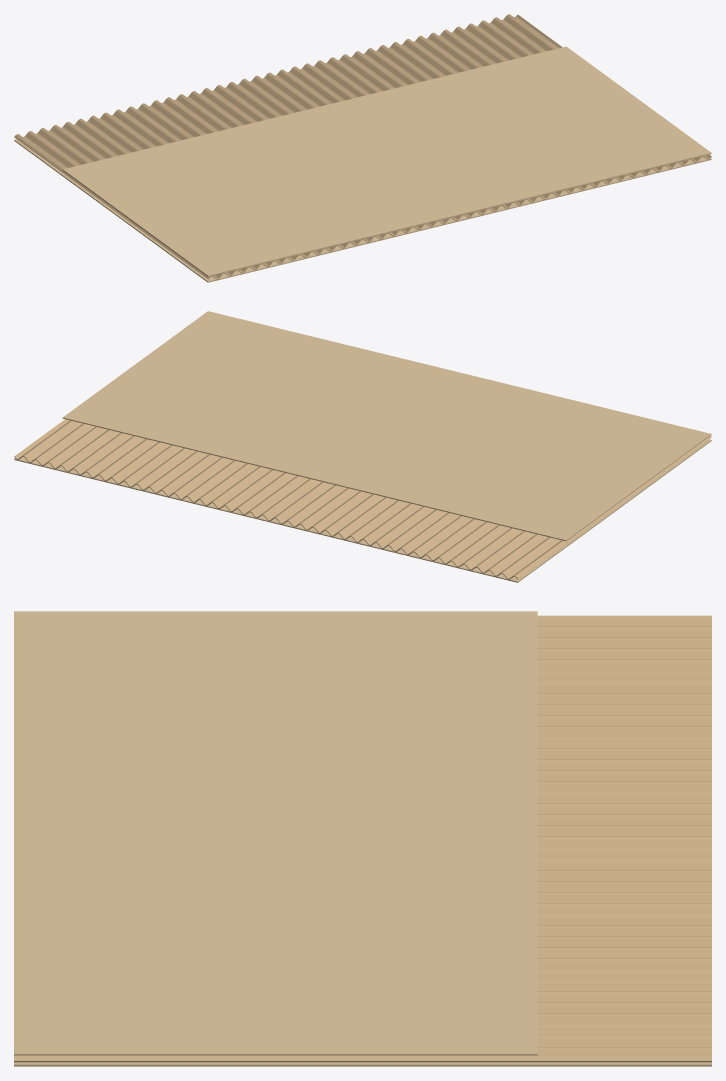
Rendered from corrugated_divider.glb.
3 renders of one model, top to bottom at view 1: azimuth 30°, elevation 25°; view 2: azimuth 150°, elevation 25°; view 3: azimuth 270°, elevation 25°, orthographic. The views are drawn at different scales.
Visible parts, largest first — view 1: divider_liners, divider_flute; view 2: divider_liners, divider_flute; view 3: divider_liners, divider_flute.
Part boxes in pixels (x1,y1,x2,y2): divider_liners: (14,46,711,282); divider_flute: (14,14,711,279); divider_liners: (14,311,711,582); divider_flute: (14,419,711,579); divider_liners: (14,611,711,1066); divider_flute: (14,615,711,1062).
Size of the model in its own units: 0.3003 by 0.004 by 0.2.
